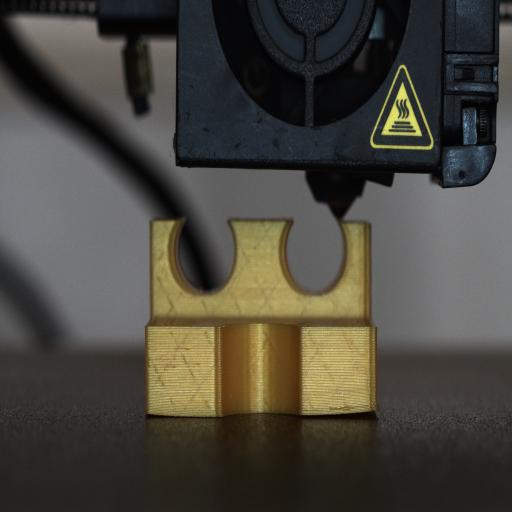warp: (311, 400, 383, 422), (142, 406, 176, 422)
